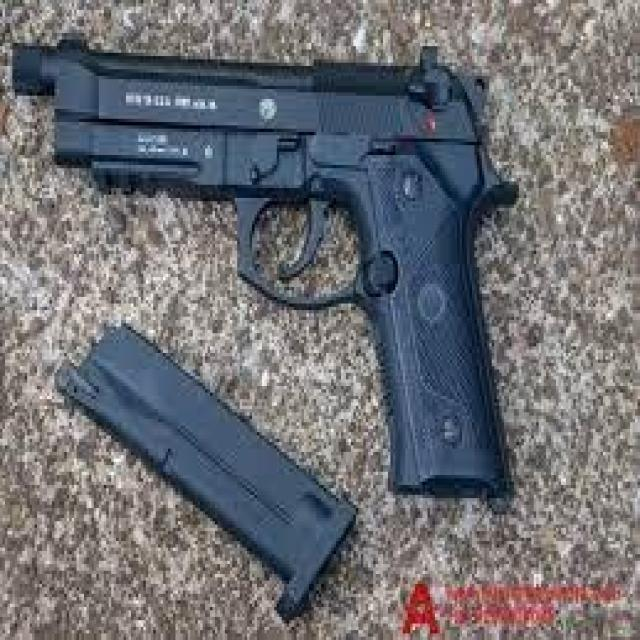gun: (10, 33, 519, 495)
